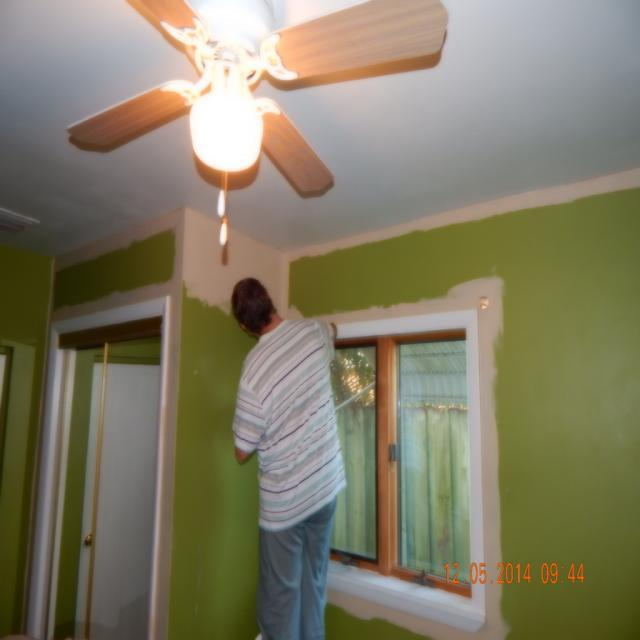bulb_on: (189, 86, 258, 167)
fan_off: (69, 0, 445, 194)
